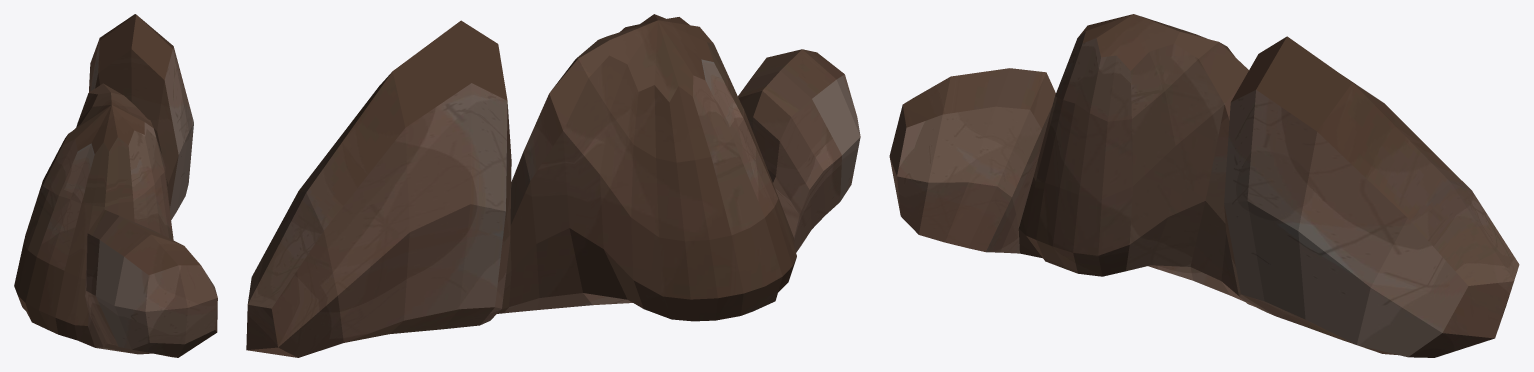
The model's file is Rock Formation 4.fbx.
3 views of the same model, side by side, from view 1: azimuth 30°, elevation 25°; view 2: azimuth 150°, elevation 25°; view 3: azimuth 270°, elevation 25° (orthographic). The views are drawn at different scales.
Parts seen in each view (by area): view 1: Cylinder; view 2: Cylinder; view 3: Cylinder.
Part boxes in pixels (<box>): Cylinder: <box>14,14,217,357</box>; Cylinder: <box>246,14,860,357</box>; Cylinder: <box>889,14,1519,357</box>.
Bounding box in the file's own units: 328 × 269 × 533.
